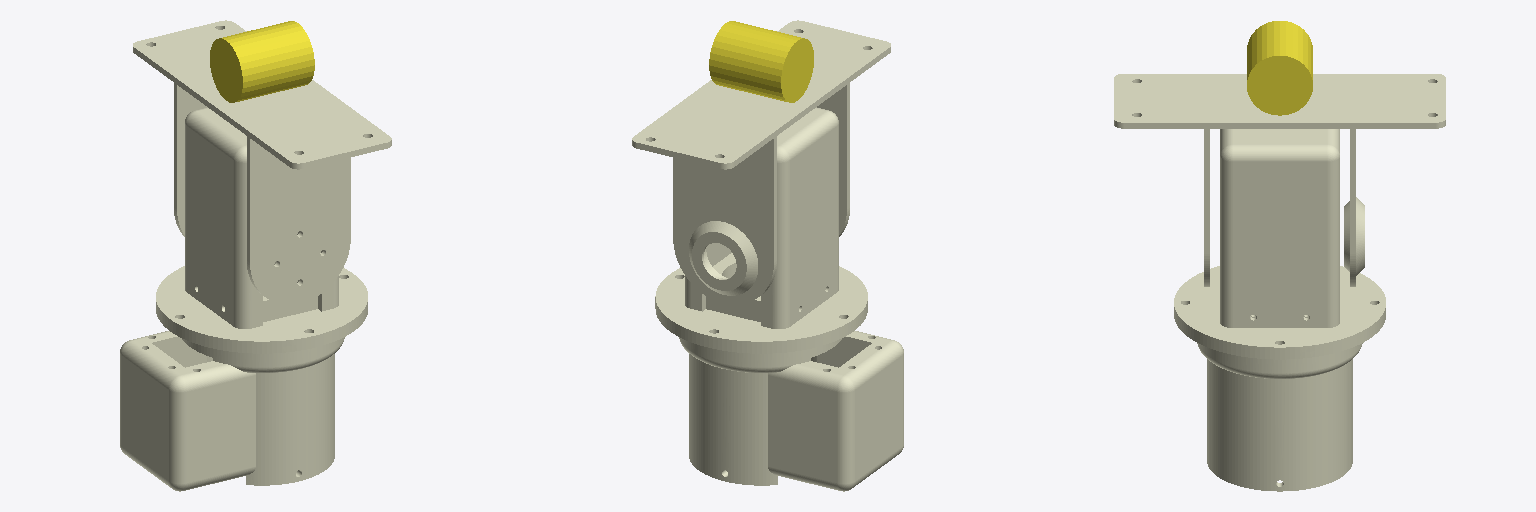
URDF robot description (mastcam):
<robot name="mastcam">

  <link name="base_link">
    <visual>
      <origin xyz="0 0 0" rpy="0 0 -1.5708"/>
      <geometry>
        <mesh filename="package://ag_mastcam/meshes/link_1.stl" scale="0.001 0.001 0.001"/>
      </geometry>
      <material name="Grey">
        <color rgba="0.9 0.9 0.8 1.0"/>
      </material>
    </visual>
  </link>
  
  <link name="link_1">
    <visual>
      <origin xyz="0 0 -0.049" rpy="0 0 1.5708"/>
      <geometry>
        <mesh filename="package://ag_mastcam/meshes/link_2.stl" scale="0.001 0.001 0.001"/>
      </geometry>
      <material name="Grey">
        <color rgba="0.9 0.9 0.8 1.0"/>
      </material>
    </visual>
  </link>

  <link name="link_2">
    <visual>
      <origin xyz="0.0716 0 0" rpy="0 1.5708 3.14159"/>
      <geometry>
        <mesh filename="package://ag_mastcam/meshes/link_3.stl" scale="0.001 0.001 0.001"/>
      </geometry>
      <material name="Grey">
        <color rgba="0.9 0.9 0.8 1.0"/>
      </material>
    </visual>
  </link>

  <link name="camera_link">
    <visual>
      <origin xyz="0 0 0" rpy="0 0 0"/>
      <geometry>
        <cylinder radius="0.01" length="0.025"/>
      </geometry>  
    </visual>
  </link>


  <joint name="pan_joint" type="revolute">
    <parent link="base_link"/>
    <child link="link_1"/>
    <origin xyz="0 0 0.049" rpy="0 0 0"/>
    <axis xyz="0 0 1"/>

    <!-- Joint limits -->
    <limit lower="-2.3561" upper="2.3561" velocity="11.5" effort="100"/>
    <!-- Soft limits -->
    <safety_controller k_position="1"
                    k_velocity="1000"
                    soft_lower_limit="-10.1415"
                    soft_upper_limit="10.1415" />

  </joint>

  <joint name="tilt_joint" type="revolute">
    <parent link="link_1"/>
    <child link="link_2"/>
    <origin xyz="0 0 0.026" rpy="1.5708 1.5708 0"/>
    <axis xyz="0 0 1"/>

    <!-- Joint limits -->
    <limit lower="-1.04719" upper="0.78539" velocity="11.5" effort="100"/>
    <!-- Soft limits -->
    <safety_controller k_position="1"
                    k_velocity="1000"
                    soft_lower_limit="-10.1415"
                    soft_upper_limit="10.1415" />

  </joint>

  <joint name="camera_joint" type="fixed">
    <parent link="link_2"/>
    <child link="camera_link"/>
    <origin xyz="-0.056 0 0" rpy="3.14159 -1.5708 1.5708"/>
  </joint>


<!-- ##########################################################################-->
<!-- Head Transmissions -->
<!-- ##########################################################################-->

<transmission name="pan_trans">
    <type>transmission_interface/SimpleTransmission</type>
    <joint name="pan_joint">
        <hardwareInterface>hardware_interface/VelocityJointInterface</hardwareInterface>
        <hardwareInterface>hardware_interface/EffortJointInterface</hardwareInterface>
        <hardwareInterface>hardware_interface/PositionJointInterface</hardwareInterface>
    </joint>
    <actuator name="pan_motor">
        <mechanicalReduction>1</mechanicalReduction>
    </actuator>
</transmission>

<transmission name="tilt_trans">
    <type>transmission_interface/SimpleTransmission</type>
    <joint name="tilt_joint">
        <hardwareInterface>hardware_interface/VelocityJointInterface</hardwareInterface>
        <hardwareInterface>hardware_interface/EffortJointInterface</hardwareInterface>
        <hardwareInterface>hardware_interface/PositionJointInterface</hardwareInterface>
    </joint>
    <actuator name="tilt_motor">
        <mechanicalReduction>1</mechanicalReduction>
    </actuator>
</transmission>
 
</robot>

--- What the picture shows (computed from the rendered views, not written in the file) ---
Views: 3 orthographic renders of the robot side by side, from view 1: azimuth 30°, elevation 25°; view 2: azimuth 150°, elevation 25°; view 3: azimuth 270°, elevation 25°.
Model mastcam with 4 links and 3 joints (2 revolute, 1 fixed), rooted at base_link, posed all joints at 0.
Visible links, largest first — view 1: link_2, base_link, link_1, camera_link; view 2: base_link, link_2, link_1, camera_link; view 3: link_1, base_link, link_2, camera_link.
Boxes of the visible links, x1,y1,x2,y2 form: link_2: [133, 20, 391, 304]; base_link: [120, 331, 344, 491]; link_1: [156, 107, 367, 353]; camera_link: [210, 21, 314, 102]; base_link: [679, 331, 903, 491]; link_2: [632, 20, 890, 304]; link_1: [655, 107, 867, 353]; camera_link: [709, 21, 813, 102]; link_1: [1174, 129, 1385, 359]; base_link: [1197, 343, 1362, 491]; link_2: [1114, 74, 1445, 286]; camera_link: [1247, 21, 1312, 115].
Size in the robot's own frame: 0.0727 by 0.1 by 0.1405 metres.
Meshes: 3 distinct files referenced, 3 mesh visuals loaded (3 binary STL).